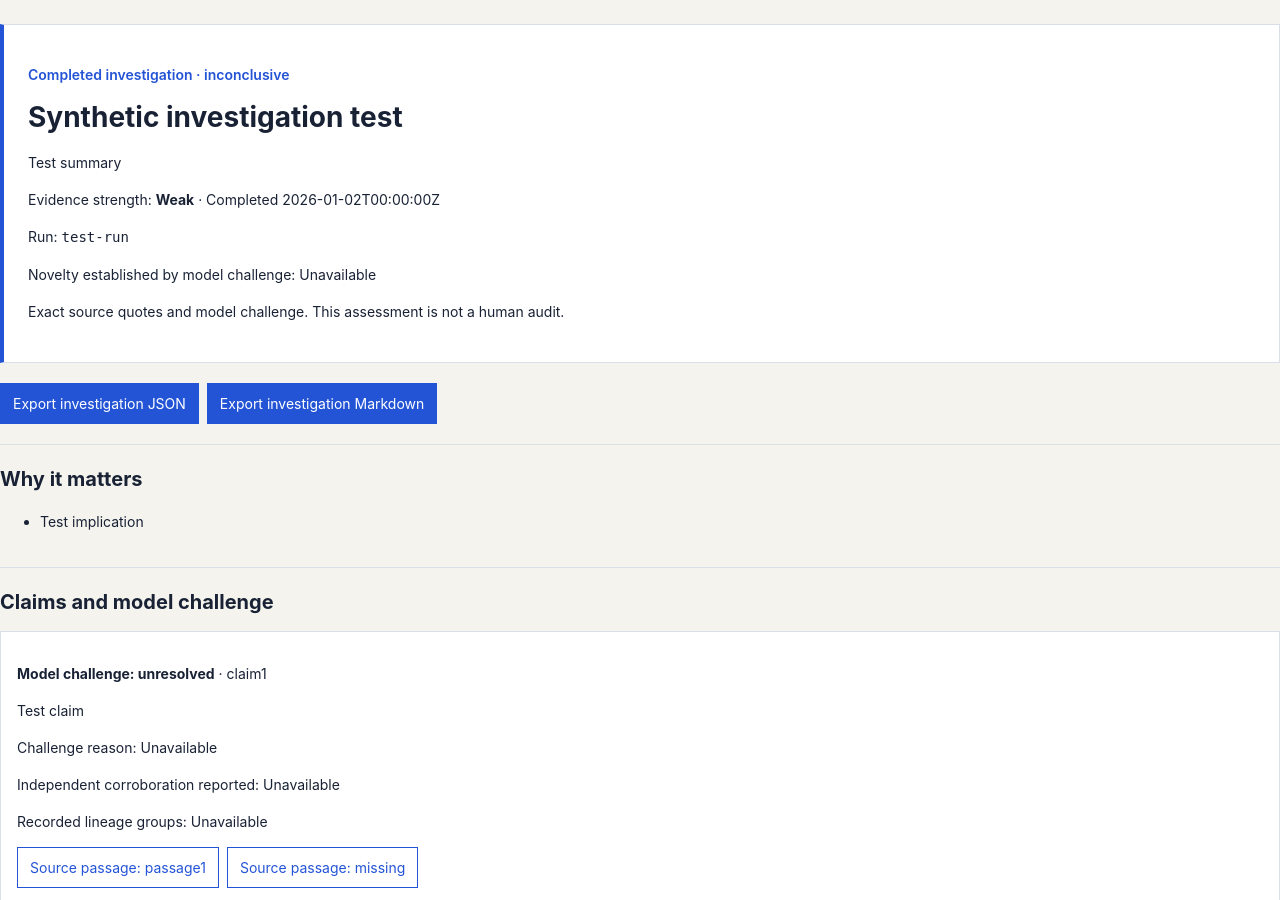
it: completed investigation › renders the complete contract and resolves passages, sources and missing references
The image size is (1280, 900).
Expected: the text "Test summary" is shown, [28, 154, 121, 171]
Expected: the list item "Test implication" is shown, [40, 513, 144, 530]
Step 1. Click the button "Source passage: passage1" → [118, 868], box [17, 847, 219, 888]
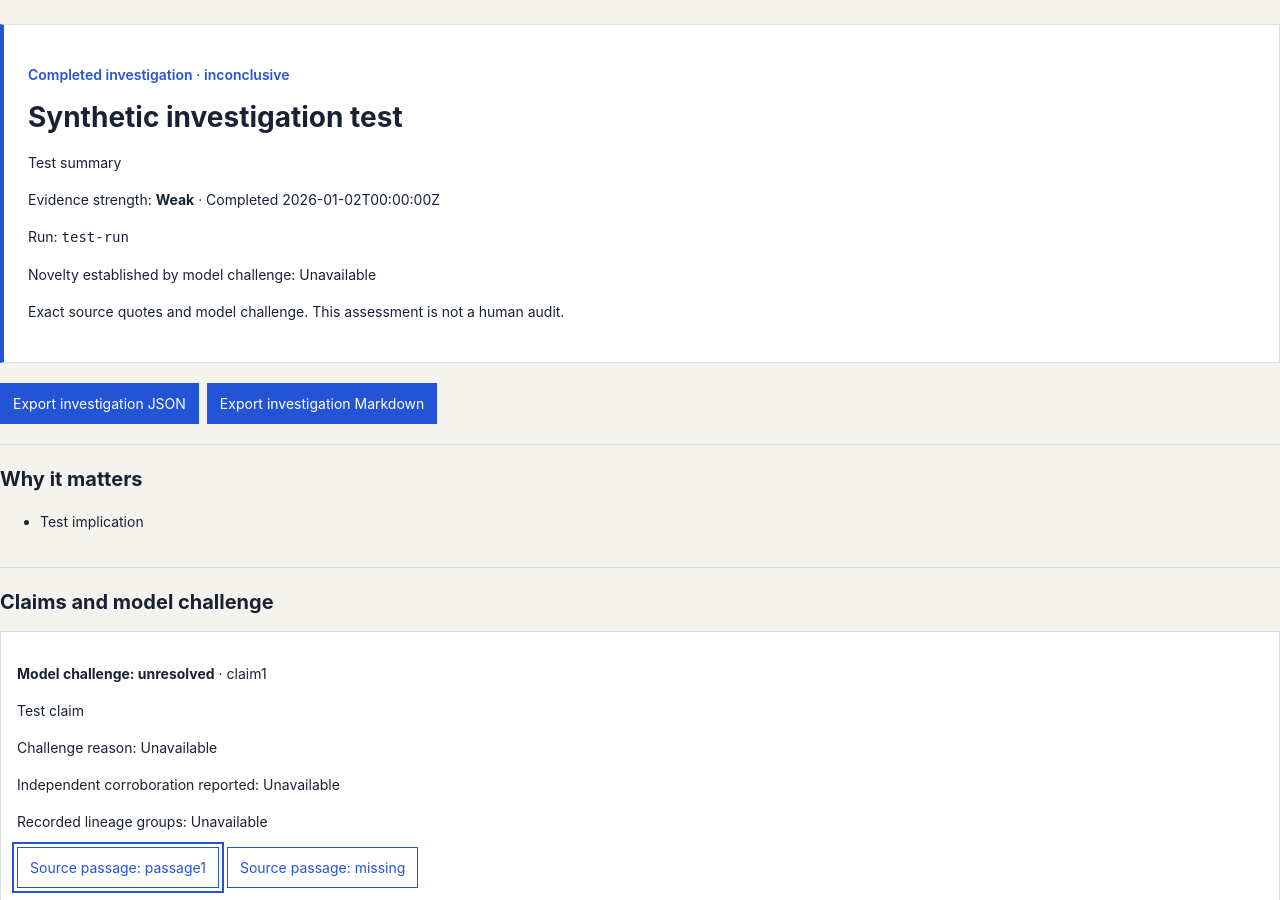
Step 2. Click the button "Source passage: missing" → [323, 868], box [227, 847, 418, 888]
(page scrolled)
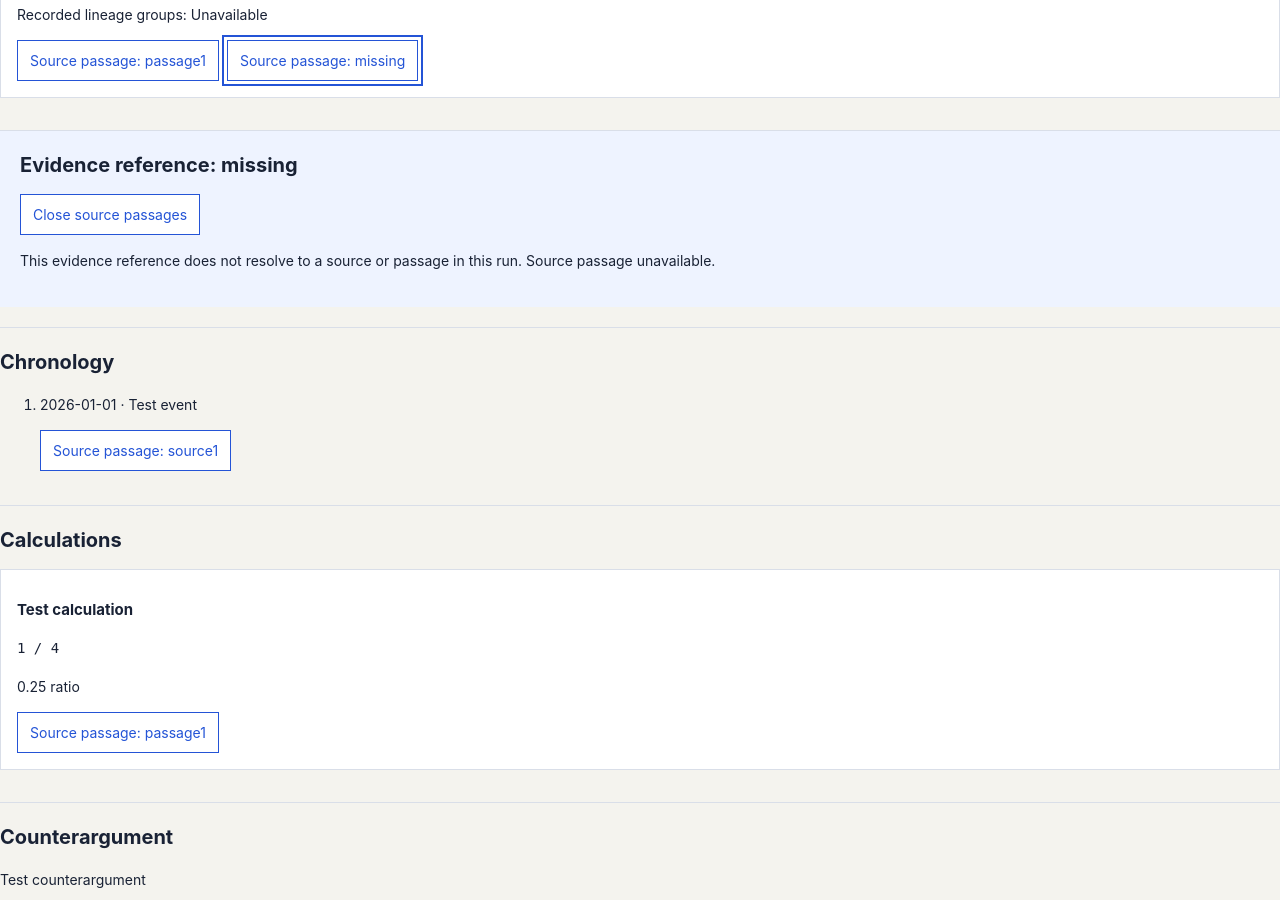
Expected: the text "does not resolve" is shown, [20, 252, 715, 269]
Step 3. Click the button "Source passage: source1" → [136, 450], box [40, 430, 231, 471]
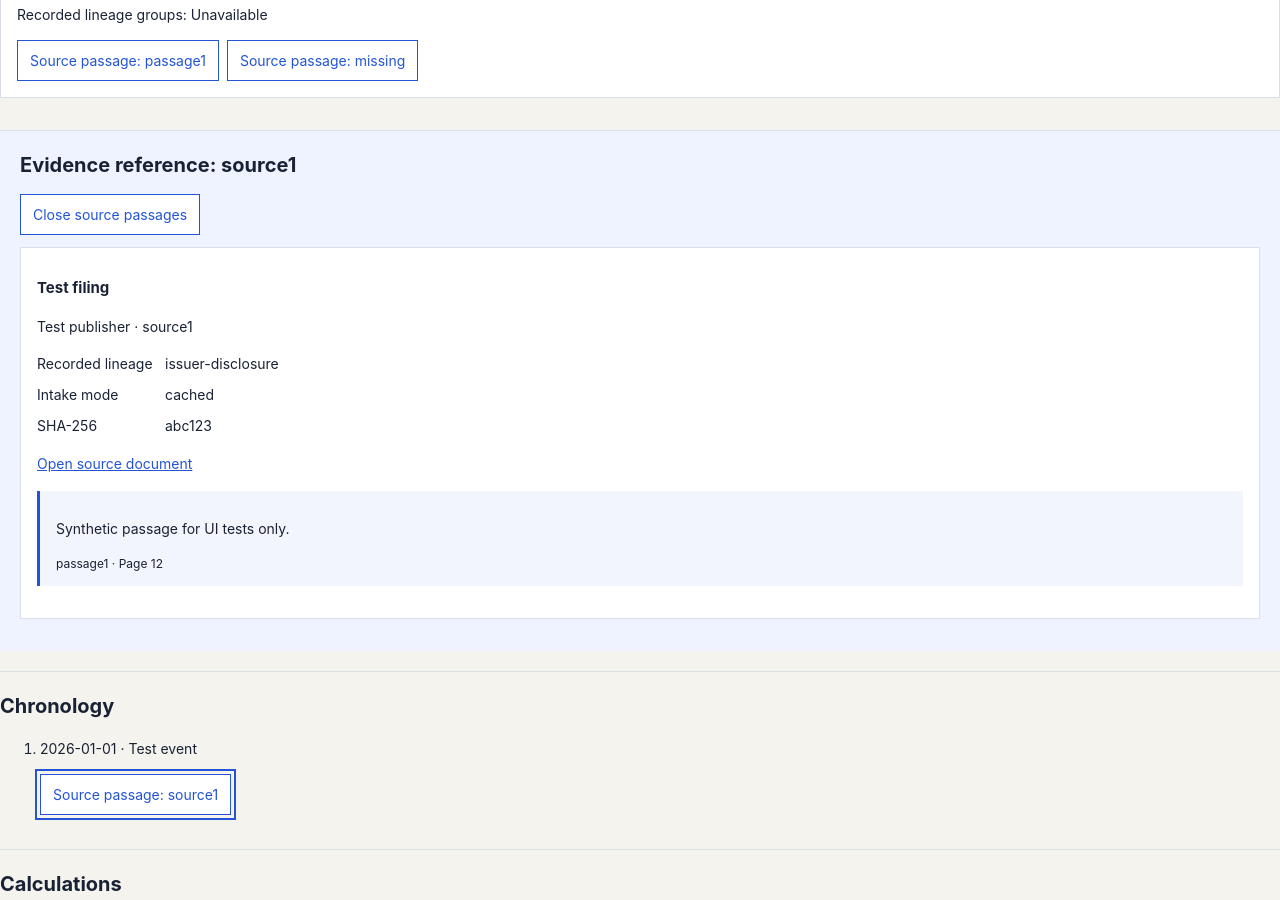
Expected: the text "Synthetic passage for UI tests only." is shown, [56, 520, 290, 537]
